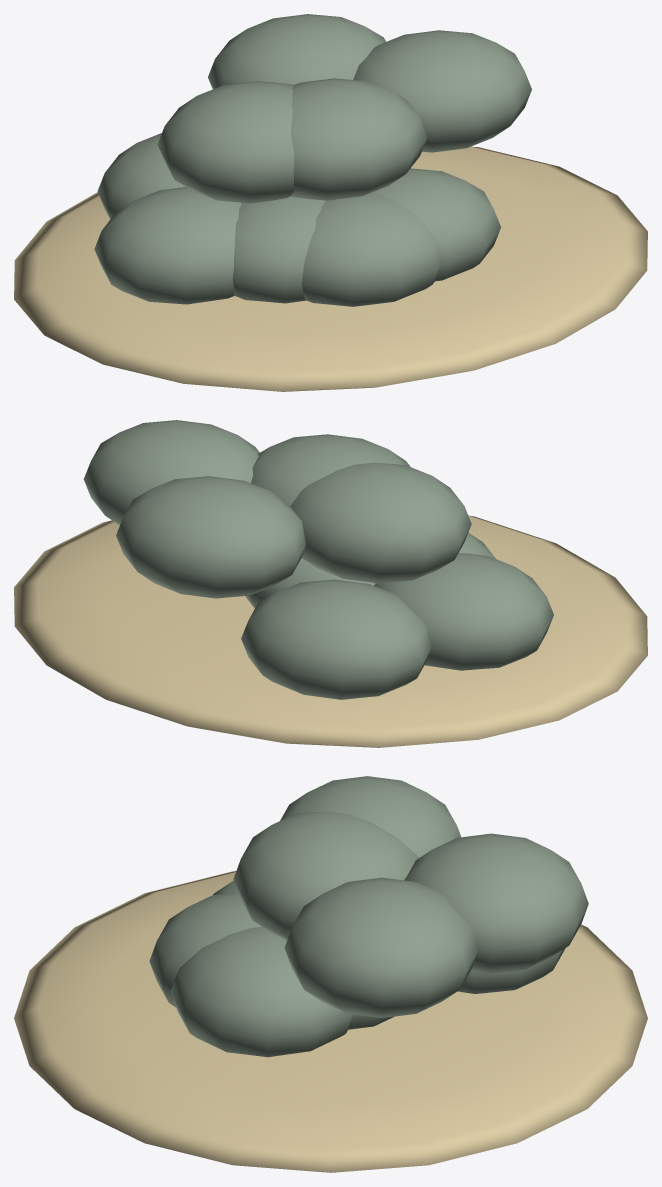
File: reef-kit.glb
The picture shows the model from 3 angles, top to bottom: view 1: azimuth 30°, elevation 25°; view 2: azimuth 150°, elevation 25°; view 3: azimuth 270°, elevation 25°; orthographic projection. The views are drawn at different scales.
Parts seen in each view (by area): view 1: Reef_limestone; view 2: Reef_limestone; view 3: Reef_limestone.
Boxes of the visible parts, x1,y1,x2,y2 form: Reef_limestone: (14,14,647,391); Reef_limestone: (14,420,647,747); Reef_limestone: (14,776,647,1172).
Bounding box in the file's own units: 3 × 1 × 2.6.
